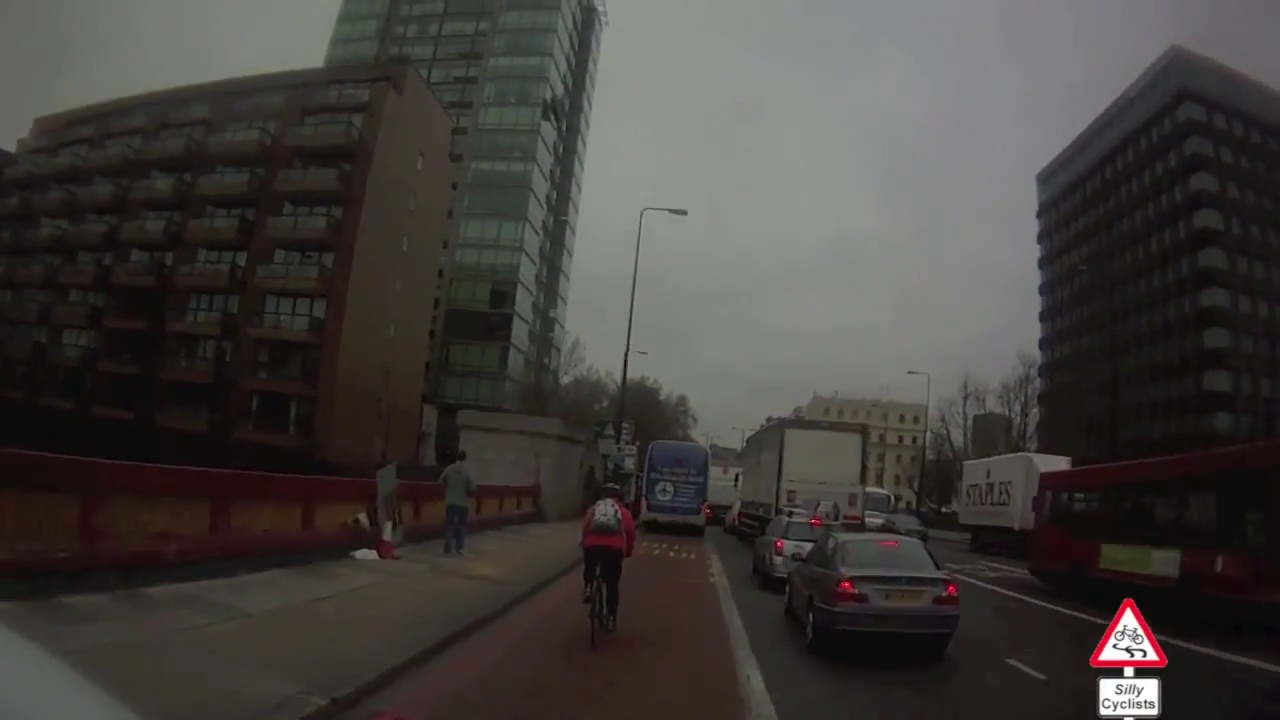cyclist_back: (578, 482, 638, 649)
